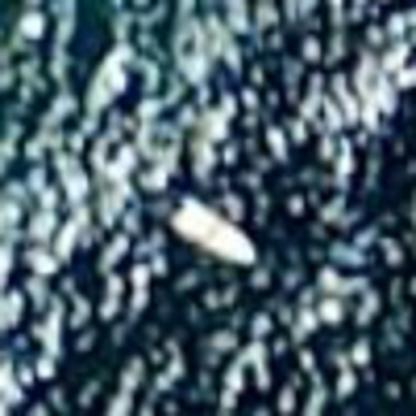ship: (158, 176, 264, 278)
